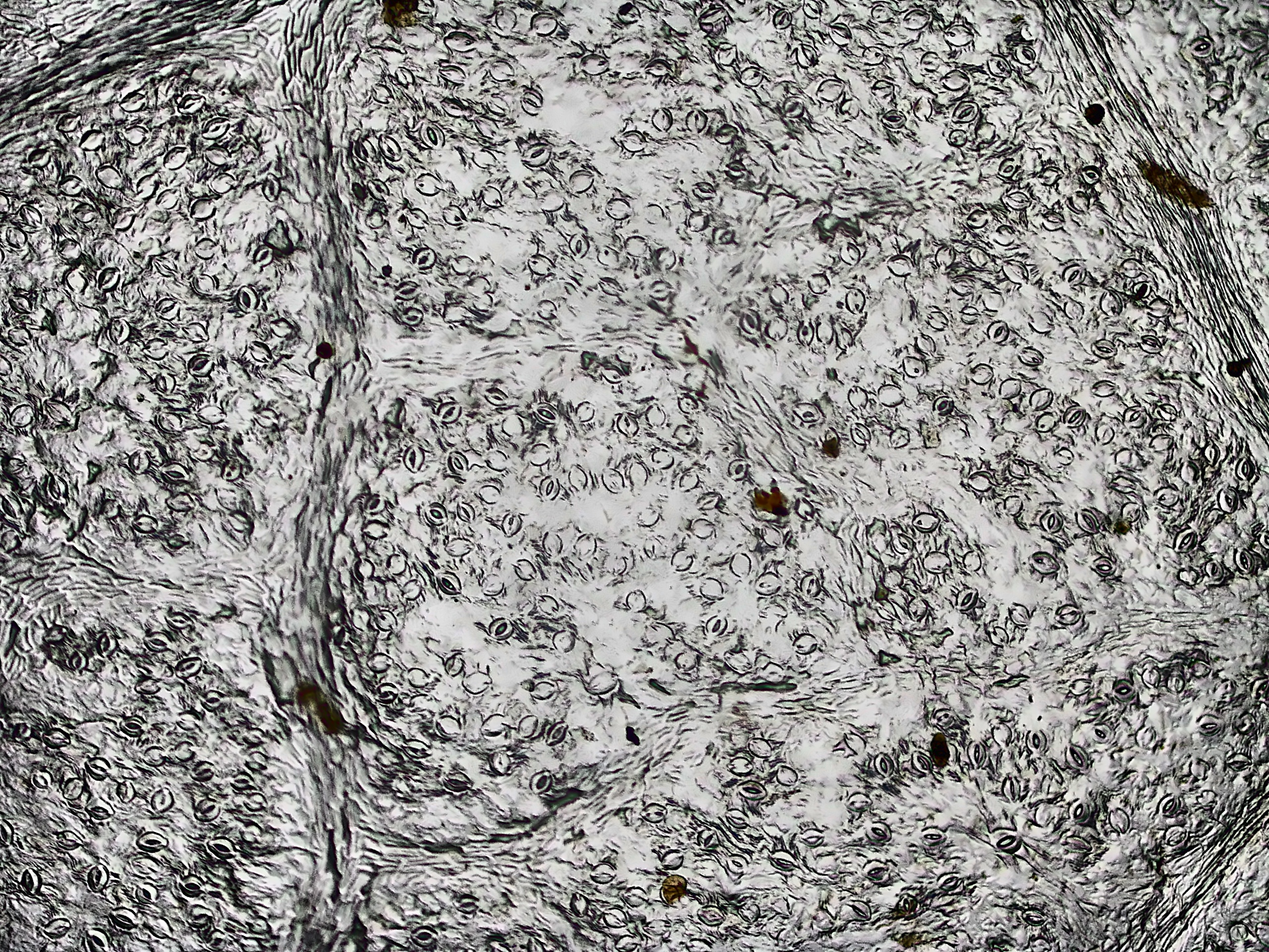stomata: (42, 398, 75, 428), (520, 143, 552, 167), (155, 410, 184, 435), (712, 225, 741, 250), (943, 24, 973, 48), (63, 268, 89, 295), (190, 273, 218, 298), (419, 123, 444, 151), (1178, 456, 1202, 485), (1030, 551, 1060, 574), (619, 130, 650, 152), (131, 856, 162, 878), (1002, 259, 1029, 284), (816, 79, 845, 102), (109, 906, 138, 929), (529, 679, 558, 702), (96, 167, 126, 189), (461, 671, 491, 693), (444, 31, 475, 52), (529, 12, 557, 35), (886, 255, 915, 277), (20, 866, 41, 896), (377, 134, 402, 159), (1074, 508, 1099, 533), (552, 628, 577, 653), (713, 43, 738, 68), (188, 354, 214, 378), (190, 197, 217, 220), (877, 384, 904, 407), (193, 798, 220, 821), (1108, 807, 1131, 834), (587, 672, 618, 692), (414, 173, 442, 195), (176, 94, 205, 115), (109, 316, 130, 345), (166, 491, 195, 512), (922, 551, 951, 572), (186, 904, 211, 928), (1027, 310, 1052, 334), (1062, 834, 1092, 854), (80, 129, 106, 152), (178, 874, 204, 897), (435, 571, 461, 594), (1172, 528, 1198, 551), (46, 475, 68, 502), (951, 101, 978, 123), (136, 833, 169, 851), (967, 471, 994, 493), (156, 463, 187, 482), (88, 863, 109, 891), (697, 905, 725, 926), (754, 572, 782, 593), (794, 495, 815, 523), (403, 738, 432, 758), (602, 469, 626, 493), (85, 756, 109, 780), (1065, 746, 1089, 770), (412, 246, 435, 271), (764, 316, 789, 339), (150, 789, 173, 814), (436, 715, 461, 738), (1188, 758, 1211, 783), (237, 286, 259, 312), (129, 450, 151, 476), (403, 446, 425, 472), (590, 862, 616, 884), (1216, 487, 1238, 513), (142, 338, 169, 359), (528, 254, 555, 275), (410, 926, 437, 947), (620, 886, 647, 907), (196, 404, 224, 424), (604, 199, 632, 219), (86, 799, 114, 819), (19, 204, 43, 227), (520, 92, 543, 116), (568, 169, 592, 192), (988, 55, 1012, 78), (489, 751, 512, 775), (1157, 793, 1180, 817), (699, 576, 722, 600), (201, 118, 230, 137), (579, 55, 608, 74), (911, 512, 940, 531), (98, 267, 120, 292), (768, 283, 790, 308), (1100, 291, 1122, 316), (863, 860, 888, 882), (890, 532, 915, 554), (6, 326, 32, 347), (904, 10, 930, 31), (144, 631, 170, 652), (568, 465, 589, 491), (370, 83, 396, 104), (941, 70, 968, 90), (43, 728, 70, 748), (119, 715, 146, 735), (174, 657, 201, 677), (1187, 37, 1214, 57), (1029, 387, 1052, 410), (541, 532, 564, 555), (164, 147, 186, 171), (112, 207, 134, 231), (352, 138, 376, 160), (534, 403, 558, 425), (531, 770, 553, 794), (1025, 729, 1047, 753), (671, 548, 693, 572), (501, 416, 525, 438), (1008, 602, 1030, 626), (482, 573, 504, 597), (227, 511, 252, 532), (1061, 264, 1086, 285), (1068, 799, 1089, 824), (1197, 714, 1222, 735), (628, 462, 649, 487), (731, 552, 752, 577), (908, 597, 929, 622), (182, 323, 208, 343), (487, 59, 513, 79), (598, 277, 624, 297), (641, 804, 667, 824), (473, 118, 499, 138), (1207, 81, 1233, 101), (992, 722, 1012, 748), (204, 146, 231, 165), (131, 514, 158, 533), (44, 918, 71, 937), (995, 831, 1022, 850), (1003, 774, 1022, 801), (155, 298, 178, 320), (479, 184, 502, 206), (366, 179, 389, 201), (651, 108, 673, 131), (829, 23, 852, 45), (739, 309, 761, 332), (1067, 191, 1090, 213), (424, 503, 447, 525), (661, 848, 684, 870), (848, 899, 871, 921), (1113, 678, 1135, 701), (691, 518, 714, 540), (1042, 509, 1064, 532), (1233, 712, 1255, 735), (935, 246, 956, 270), (902, 356, 926, 377), (792, 403, 820, 421), (191, 760, 215, 781), (874, 752, 895, 776), (967, 741, 985, 769), (489, 618, 513, 639), (445, 538, 473, 556), (1108, 476, 1136, 494), (1154, 485, 1178, 506), (792, 633, 816, 654), (8, 405, 33, 425), (207, 837, 232, 857), (405, 667, 430, 687), (1148, 298, 1173, 318), (846, 289, 865, 315), (1091, 338, 1117, 357), (1038, 167, 1064, 186), (1136, 724, 1155, 750), (122, 126, 149, 144), (261, 174, 279, 201), (207, 173, 234, 191), (443, 772, 470, 790), (797, 829, 824, 847), (845, 793, 872, 811), (782, 96, 804, 118), (513, 559, 535, 581), (529, 443, 551, 465), (955, 588, 977, 610), (1119, 500, 1141, 522), (58, 240, 81, 261), (645, 404, 666, 427), (374, 610, 397, 631), (575, 534, 596, 557), (913, 334, 936, 355), (873, 597, 894, 620), (655, 247, 676, 270), (58, 176, 82, 196), (405, 207, 429, 227), (797, 43, 817, 67), (815, 320, 835, 344), (539, 476, 559, 500), (96, 634, 116, 658), (135, 882, 159, 902), (771, 850, 795, 870), (1141, 666, 1161, 690), (800, 573, 820, 597), (484, 95, 508, 115), (728, 757, 752, 777), (119, 92, 144, 111), (439, 65, 464, 84), (441, 97, 466, 116), (851, 421, 870, 446), (1149, 432, 1174, 451), (1236, 457, 1255, 482), (1235, 546, 1254, 571), (1089, 557, 1114, 576), (1004, 192, 1030, 210), (647, 281, 673, 299), (241, 792, 267, 810), (55, 831, 81, 849), (738, 780, 764, 798), (865, 822, 891, 840), (363, 520, 389, 538), (1054, 605, 1080, 623), (568, 233, 589, 255), (685, 110, 707, 131), (1123, 405, 1145, 426), (1064, 299, 1085, 321), (448, 452, 469, 474), (616, 413, 638, 434), (677, 393, 699, 414), (354, 558, 375, 580), (386, 554, 407, 576), (1093, 423, 1114, 445), (999, 378, 1021, 399), (137, 175, 157, 198), (501, 513, 521, 536), (518, 715, 538, 738), (547, 721, 567, 744), (604, 907, 627, 927), (1189, 658, 1212, 678), (374, 683, 397, 703), (845, 731, 865, 754), (652, 449, 675, 469), (154, 256, 178, 275), (270, 318, 294, 337), (1017, 347, 1041, 366), (1137, 334, 1161, 353), (950, 277, 974, 296), (175, 711, 199, 730), (748, 738, 772, 757), (254, 409, 279, 427), (571, 891, 589, 916), (919, 826, 944, 844), (367, 654, 392, 672), (713, 125, 739, 142), (646, 59, 672, 76), (5, 226, 26, 247), (194, 238, 215, 259), (968, 246, 989, 267), (202, 690, 223, 711), (481, 714, 502, 735), (697, 827, 718, 848), (1007, 457, 1028, 478), (250, 341, 272, 361), (988, 320, 1008, 342), (63, 776, 83, 798), (115, 781, 135, 803), (144, 746, 166, 766), (707, 615, 727, 637), (443, 205, 466, 224), (862, 46, 885, 65), (913, 97, 932, 120), (849, 385, 868, 408), (1041, 211, 1064, 230), (1121, 258, 1144, 277), (932, 397, 955, 416), (971, 364, 994, 383), (601, 364, 624, 383), (725, 854, 748, 873), (936, 872, 959, 891), (484, 451, 507, 470), (636, 507, 659, 526), (8, 294, 32, 312), (394, 282, 421, 298), (882, 110, 906, 128), (166, 612, 193, 628), (1091, 379, 1116, 396), (1226, 753, 1251, 770), (157, 188, 177, 209), (253, 246, 273, 267), (155, 372, 175, 393), (221, 460, 241, 481), (687, 211, 708, 231), (994, 225, 1015, 245), (889, 427, 910, 447), (174, 741, 194, 762), (912, 752, 932, 773), (364, 494, 385, 514), (679, 472, 699, 493), (988, 625, 1008, 646), (538, 595, 559, 615), (626, 590, 646, 611), (538, 300, 558, 321), (724, 160, 746, 179), (840, 243, 859, 265), (807, 275, 829, 294), (1062, 406, 1084, 425), (576, 401, 595, 423), (726, 809, 748, 828), (1165, 826, 1187, 845), (1088, 723, 1110, 742), (1156, 402, 1178, 421), (27, 148, 50, 166), (73, 204, 96, 222), (401, 307, 424, 325), (692, 182, 715, 200), (1013, 45, 1036, 63), (1022, 907, 1045, 925), (933, 709, 956, 727), (698, 492, 721, 510), (963, 550, 981, 573), (134, 678, 158, 695), (798, 320, 814, 345), (625, 236, 646, 255), (775, 766, 796, 785), (401, 580, 422, 599), (1036, 412, 1055, 433), (741, 68, 763, 86), (967, 209, 989, 227), (246, 752, 268, 770), (921, 51, 939, 73), (455, 895, 478, 912), (57, 115, 81, 131), (437, 404, 461, 420), (395, 66, 414, 86), (1081, 165, 1100, 185), (444, 656, 463, 676), (926, 311, 947, 329), (729, 459, 747, 480), (31, 771, 52, 789), (959, 306, 981, 323), (836, 326, 852, 349), (485, 389, 508, 405), (774, 8, 793, 27), (948, 128, 967, 147), (999, 159, 1018, 178), (1054, 447, 1073, 466), (456, 502, 474, 522), (1202, 440, 1218, 462), (1166, 672, 1184, 691), (872, 80, 893, 96), (67, 652, 88, 668), (1068, 679, 1092, 693), (231, 773, 252, 788), (804, 0, 821, 17), (1205, 559, 1222, 576)
